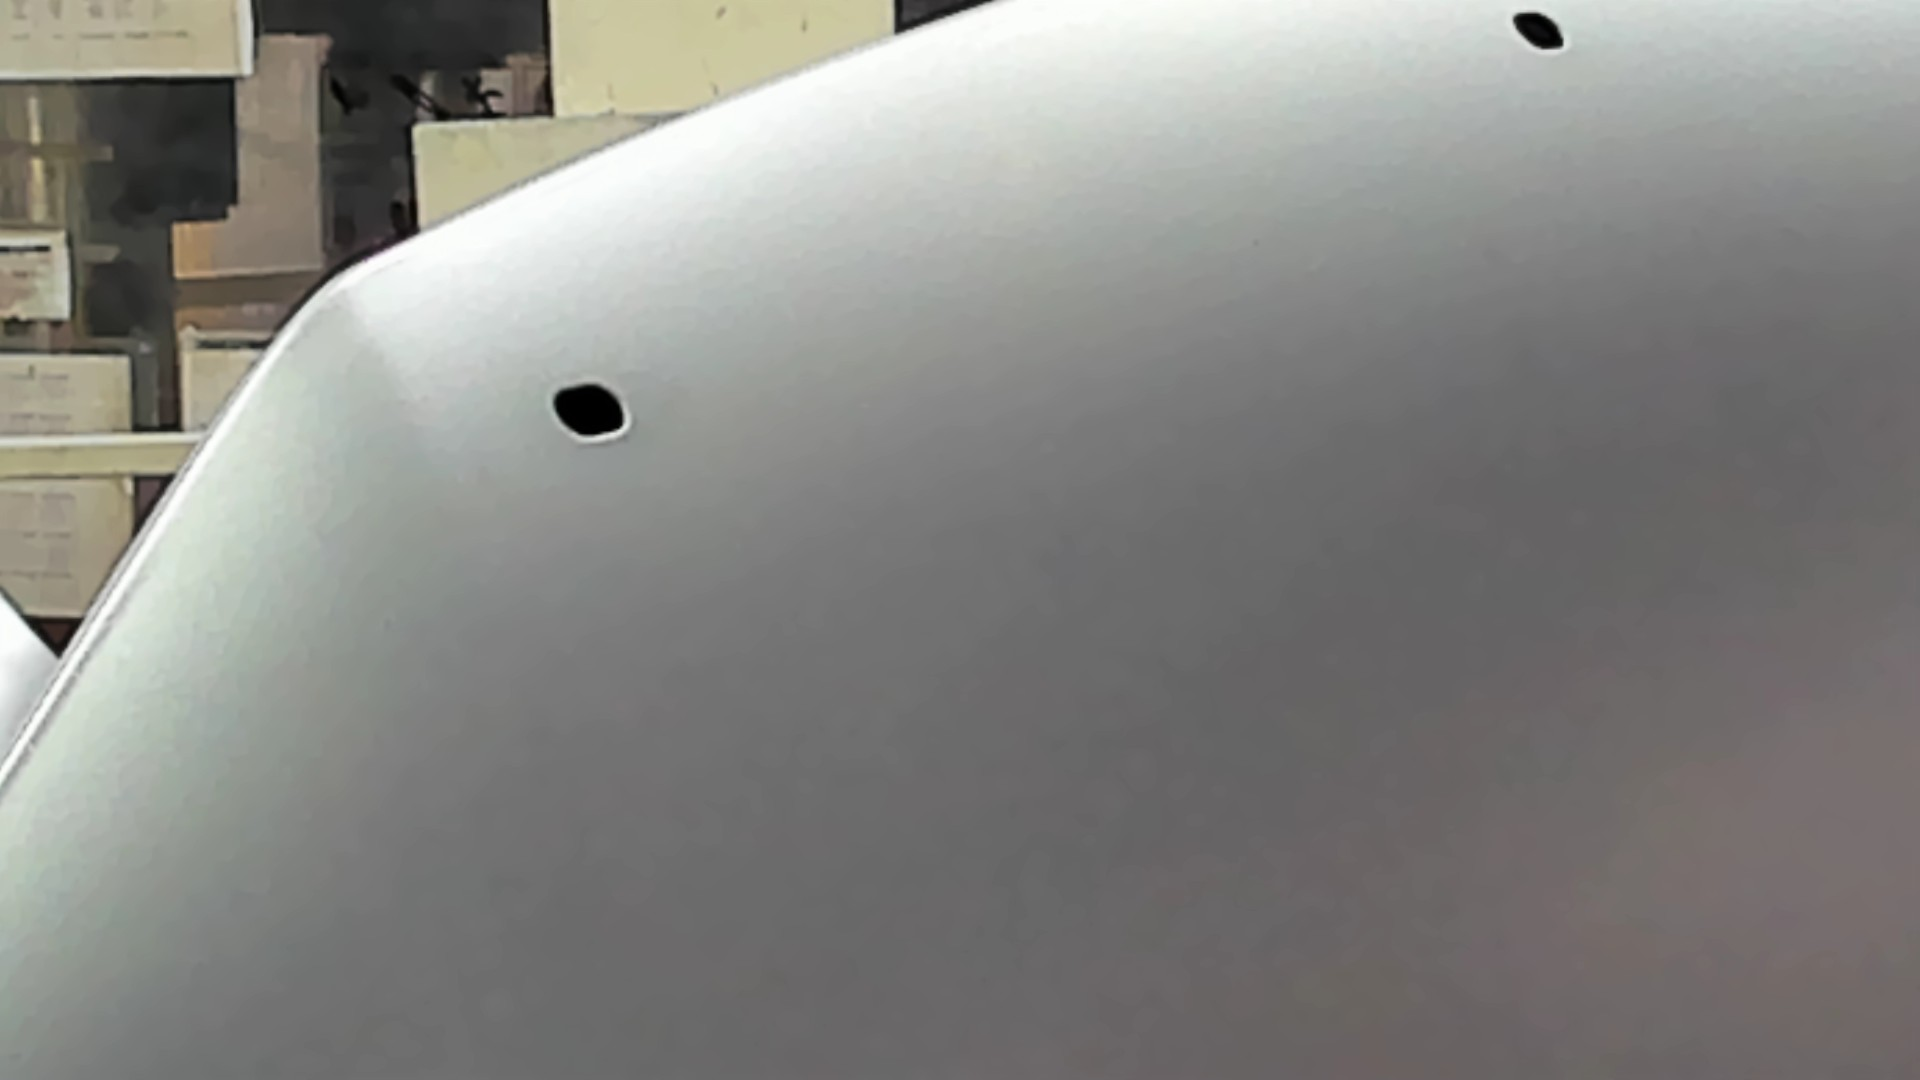amorfo: (542, 375, 637, 447), (1507, 5, 1568, 59)
capo: (723, 153, 1920, 1080)
